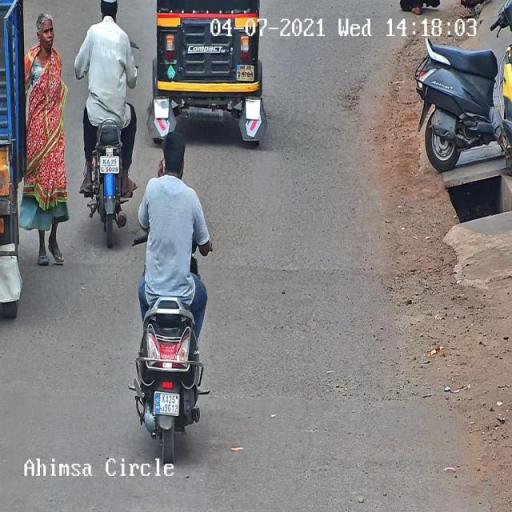numberplate: (154, 392, 182, 418)
using mobile: (153, 152, 169, 180)
